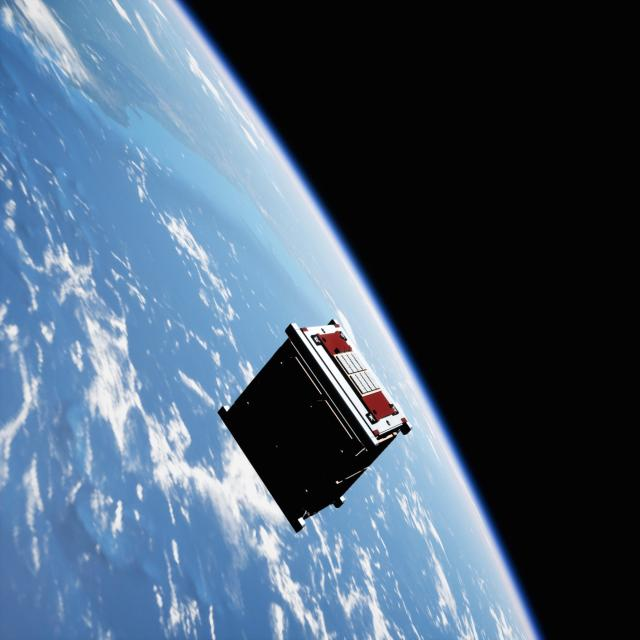medium_debris: (206, 310, 418, 534)
